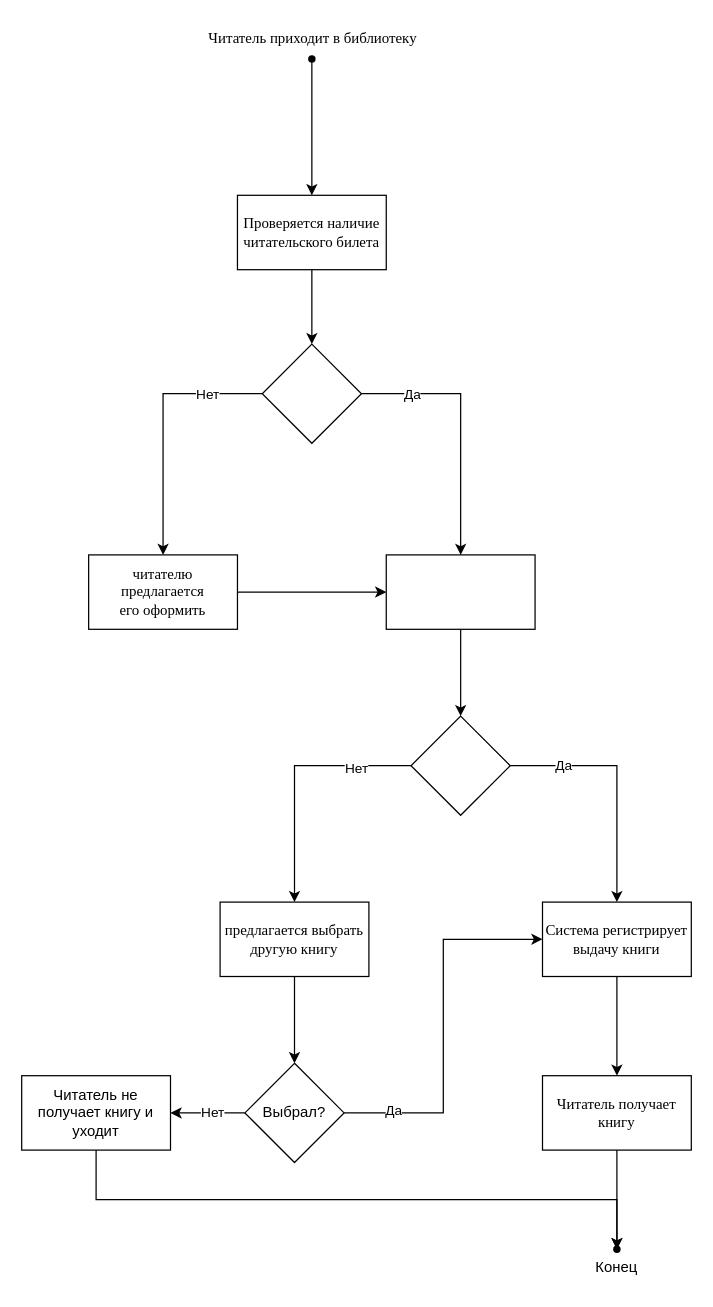
This 713x1307 diagram has some shape labels left out. The centre of each missing label's shape, as x and y in pixels:
"Доступна?" goes at point (460, 765).
"Есть?" goes at point (311, 393).
"Читатель выбирает книгу из каталога" goes at point (460, 591).
